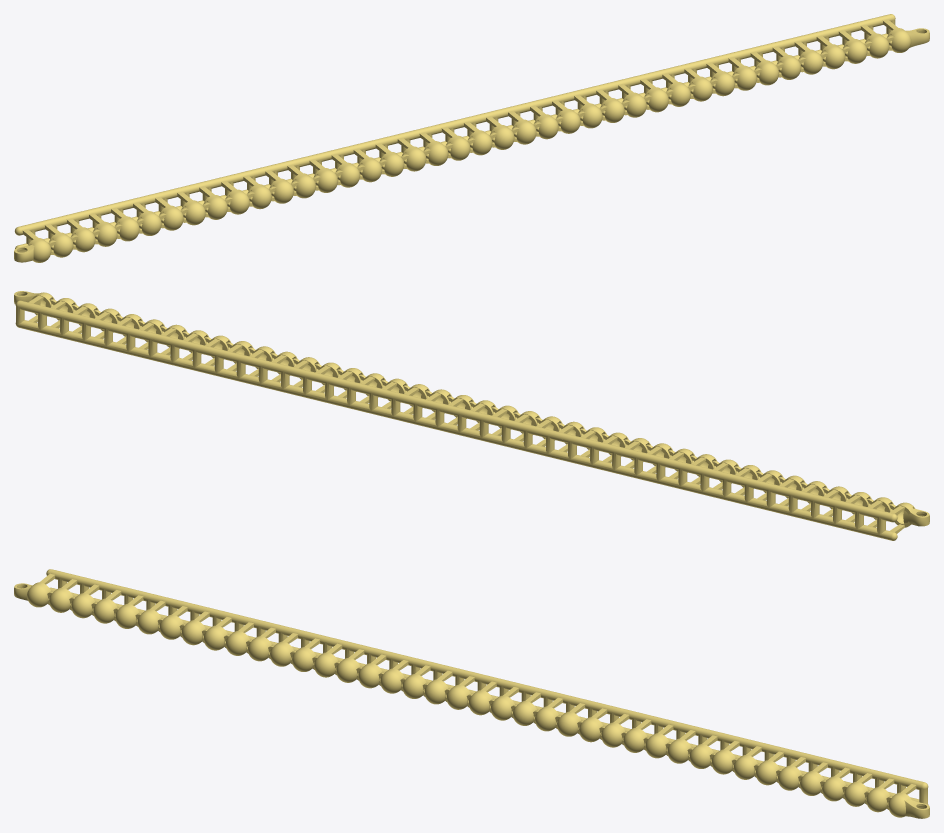
File: yzn5-96_a.glb
3 views of the same model, one above another, from view 1: azimuth 30°, elevation 25°; view 2: azimuth 150°, elevation 25°; view 3: azimuth 330°, elevation 25° (orthographic).
Parts seen in each view (by area): view 1: Renderer Node; view 2: Renderer Node; view 3: Renderer Node.
Boxes of the visible parts, bbox=[...] form: Renderer Node: bbox=[14, 14, 929, 262]; Renderer Node: bbox=[14, 291, 929, 540]; Renderer Node: bbox=[14, 569, 929, 818].
Size of the model in its own units: 178 by 4.94 by 8.18.
